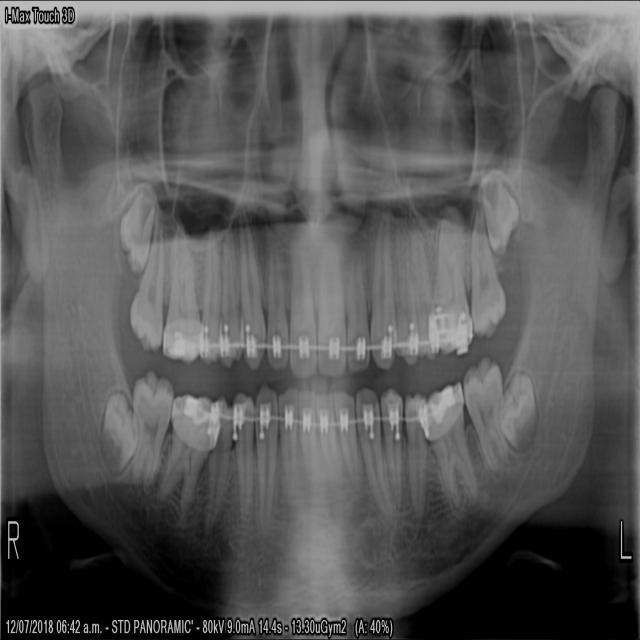LCD: (356, 383, 397, 519)
LCU: (370, 224, 398, 375)
LID: (334, 384, 364, 488), (317, 390, 348, 489)
LIU: (314, 238, 346, 379), (345, 235, 373, 377)
LMD: (415, 374, 481, 509), (460, 350, 518, 480), (499, 367, 540, 453)
LMU: (432, 219, 473, 362), (467, 208, 508, 345), (480, 169, 522, 260)
LPMD: (381, 384, 407, 510), (404, 380, 427, 522)
LPMU: (409, 220, 440, 357), (395, 227, 421, 369)
RCD: (254, 385, 279, 532)
RCU: (239, 225, 265, 374)
RID: (278, 390, 304, 503), (298, 385, 323, 493)
RIU: (284, 219, 316, 378), (266, 237, 287, 375)
RMD: (160, 380, 226, 527), (129, 370, 178, 490), (96, 378, 139, 475)
RMU: (124, 217, 168, 360), (161, 222, 203, 365), (110, 179, 158, 279)
RPMD: (204, 395, 233, 530), (231, 388, 253, 527)
RPMU: (218, 229, 240, 373), (200, 234, 221, 365)
